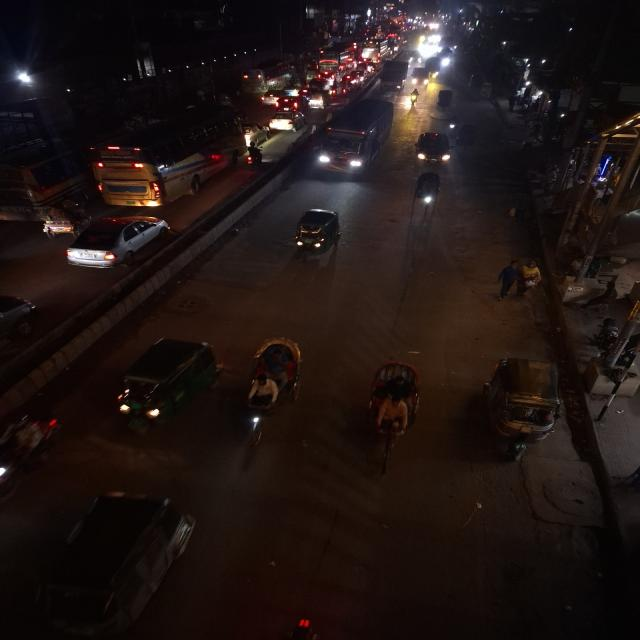bus: (88, 104, 244, 206), (313, 98, 396, 180), (0, 145, 91, 204), (377, 60, 410, 95), (318, 44, 356, 67)
car: (64, 212, 174, 272), (0, 287, 42, 363), (267, 109, 307, 134)
cng: (21, 490, 199, 640), (104, 337, 220, 427), (484, 352, 569, 466), (287, 206, 347, 264)
motorcycle: (242, 141, 266, 170), (408, 87, 422, 110)
pedestrian: (490, 257, 524, 303)
pickup_van: (413, 130, 456, 168)
rickshaw: (240, 335, 307, 451), (364, 353, 428, 471), (33, 201, 88, 239), (408, 170, 446, 220), (412, 130, 455, 168), (453, 122, 479, 149), (433, 87, 457, 115)
truck: (378, 60, 410, 96)
